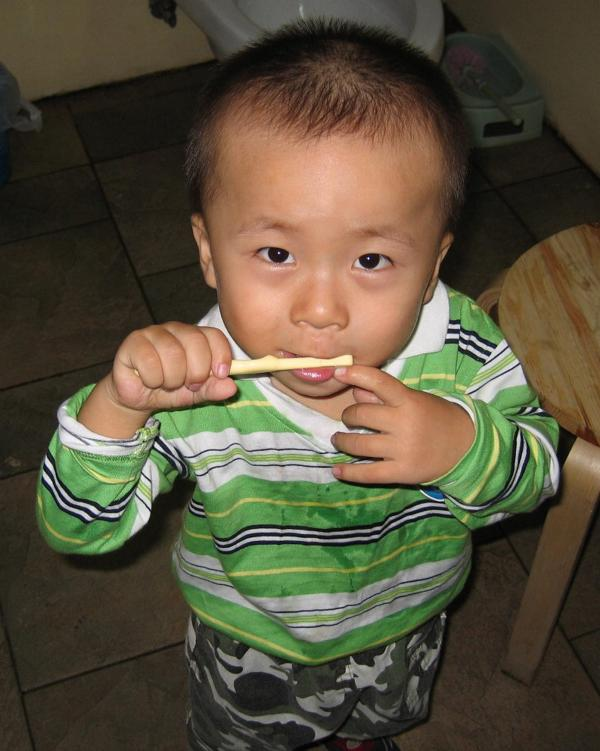person: (34, 19, 561, 751)
